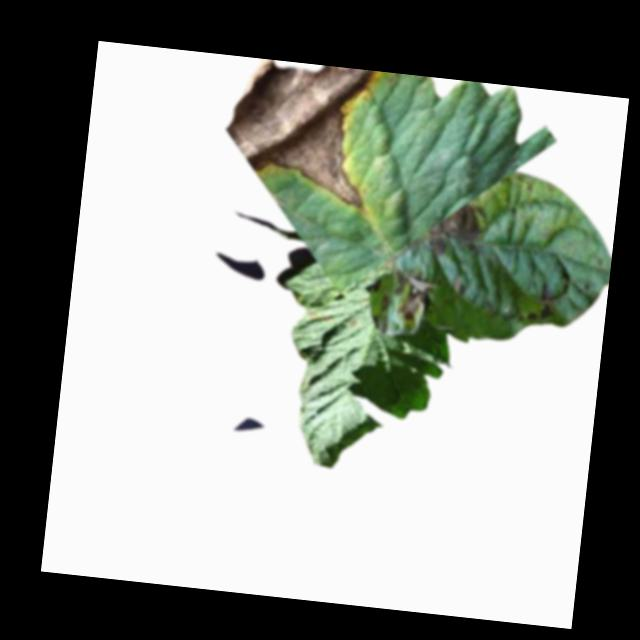Early_blight: (216, 55, 379, 212), (417, 199, 480, 261), (388, 263, 437, 324), (525, 282, 560, 323), (309, 308, 336, 328), (380, 294, 392, 316)
